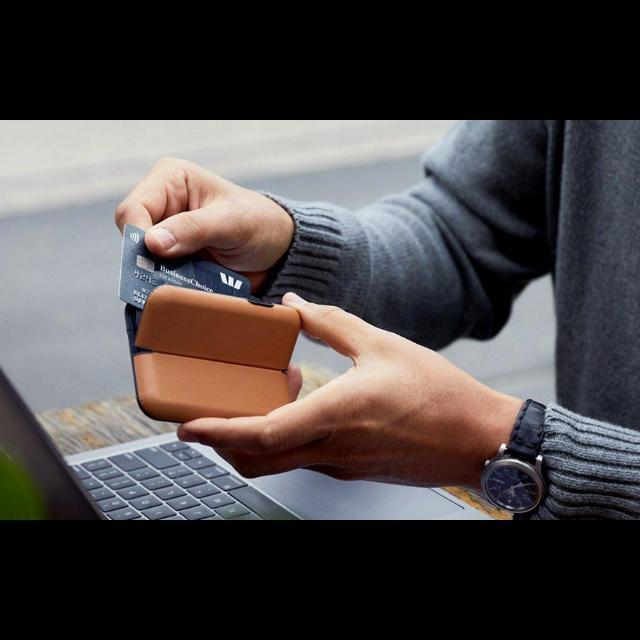wallet: (126, 292, 296, 422)
